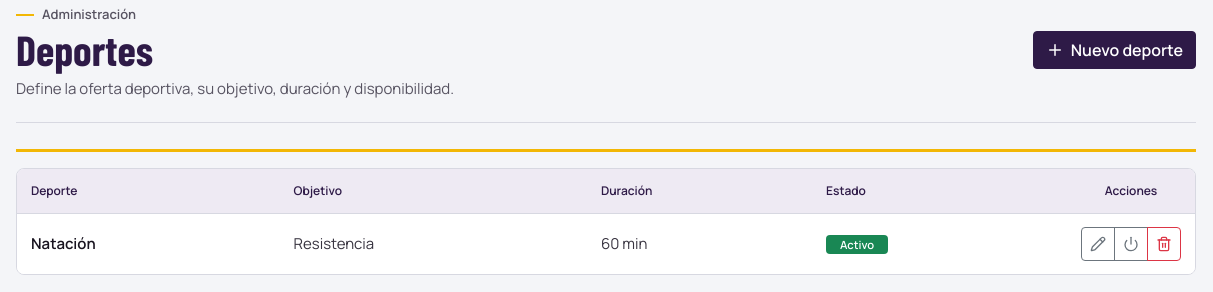
it: AdminSportsPage › confirms a status change through SweetAlert and refreshes without reloading the browser
Click the button named "Desactivar Natación" at {"x": 1131, "y": 244}, box [1114, 227, 1148, 261]
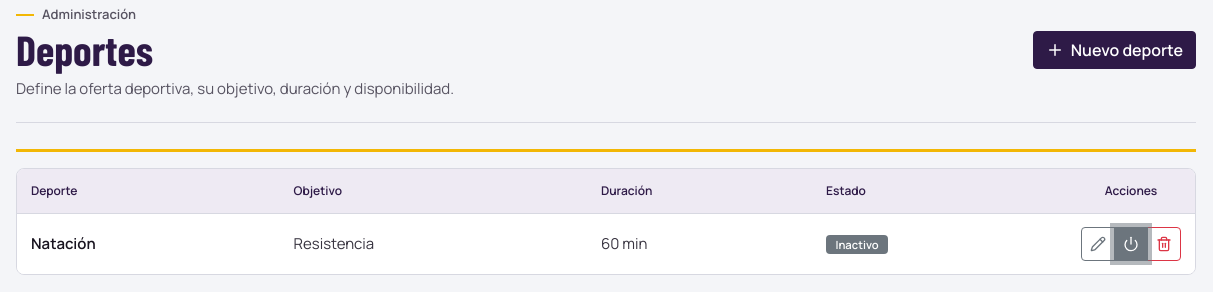
Now the text "Inactivo" is shown, box [826, 235, 888, 254]
